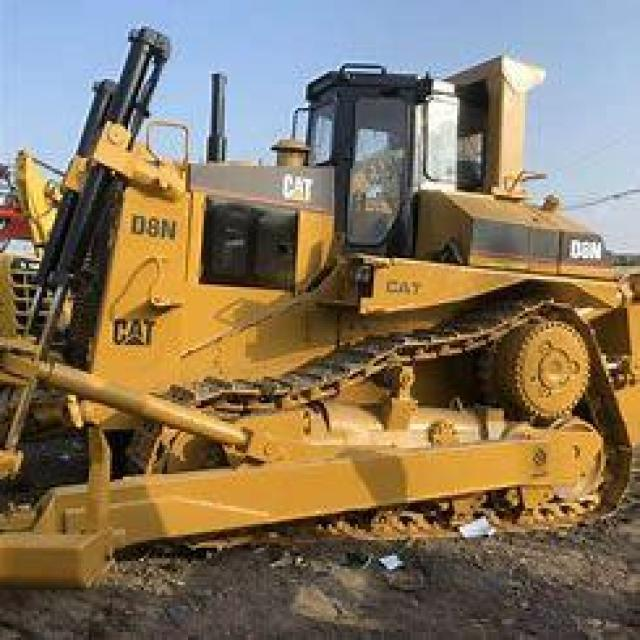Bulldozer: (0, 26, 637, 589)
